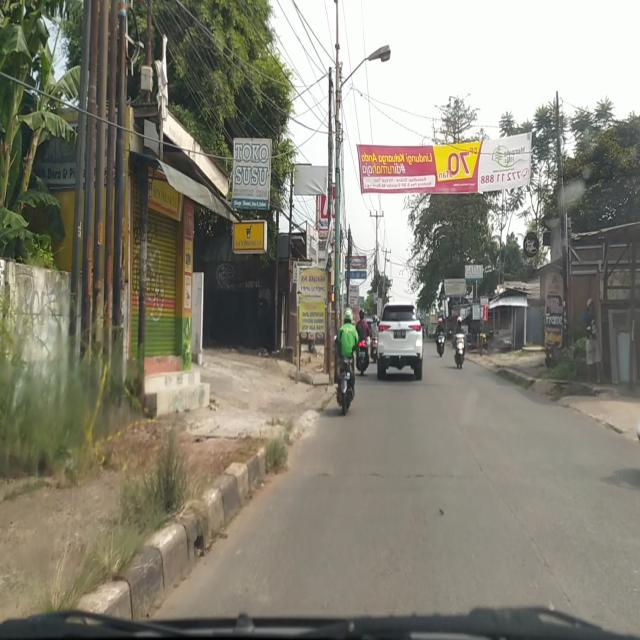Sewer Cover: (314, 469, 481, 483)
